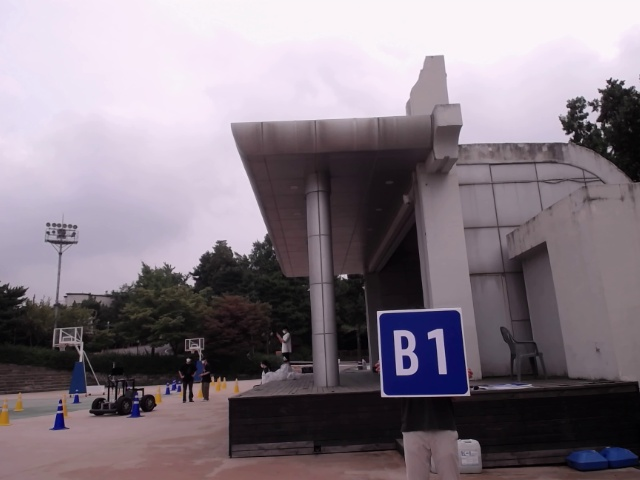delivery_b1: (377, 309, 470, 397)
